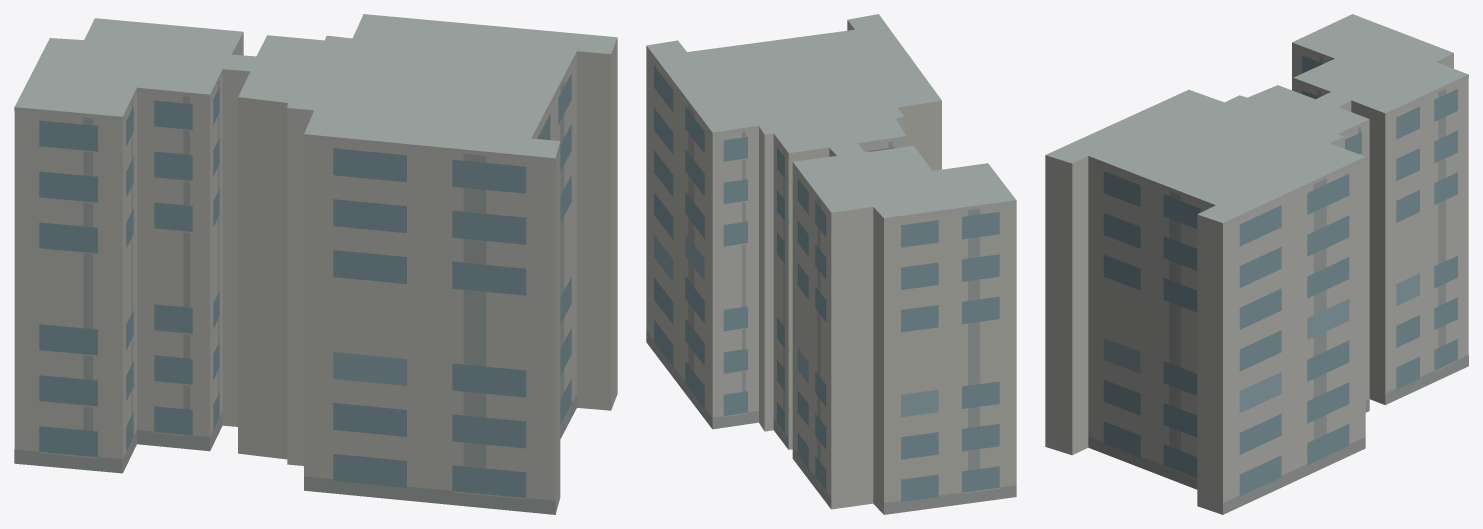
Rendered from survey-upis-32687825.glb.
The picture shows the model from 3 angles, left to right: view 1: azimuth 30°, elevation 25°; view 2: azimuth 150°, elevation 25°; view 3: azimuth 270°, elevation 25°; orthographic projection. The views are drawn at different scales.
Visible parts, largest first — view 1: survey-upis-32687825.tmp; view 2: survey-upis-32687825.tmp; view 3: survey-upis-32687825.tmp.
Boxes of the visible parts, <box> form: survey-upis-32687825.tmp: <box>14,14,617,514</box>; survey-upis-32687825.tmp: <box>646,14,1016,514</box>; survey-upis-32687825.tmp: <box>1045,14,1468,514</box>.
Bounding box in the file's own units: 31.06 × 20.2 × 26.58.
